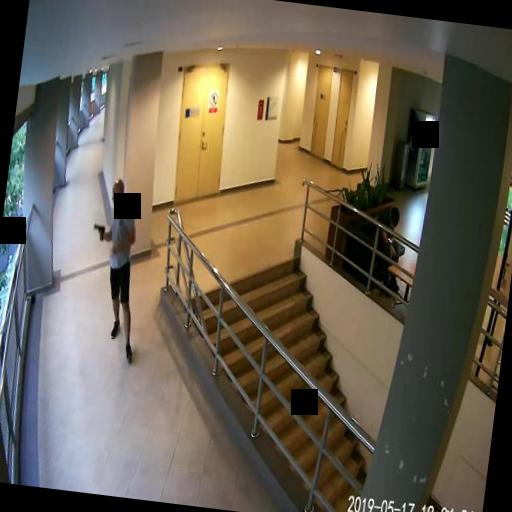Handgun: (90, 220, 105, 239)
